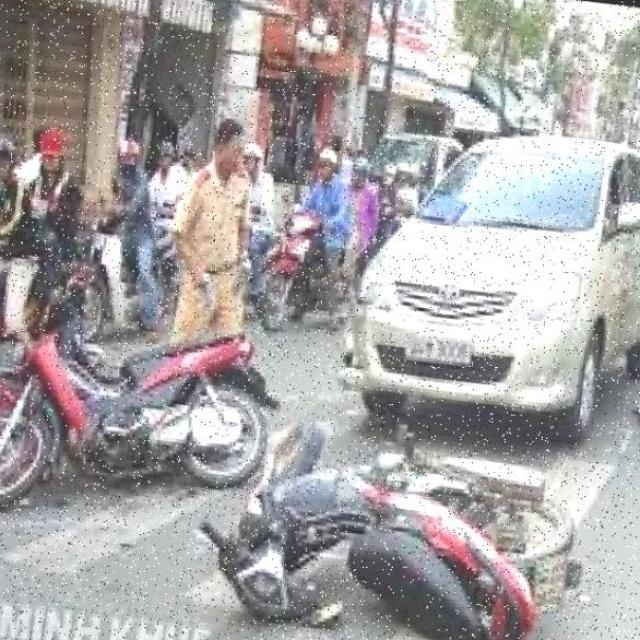accident: (194, 374, 615, 640), (0, 267, 286, 533)
